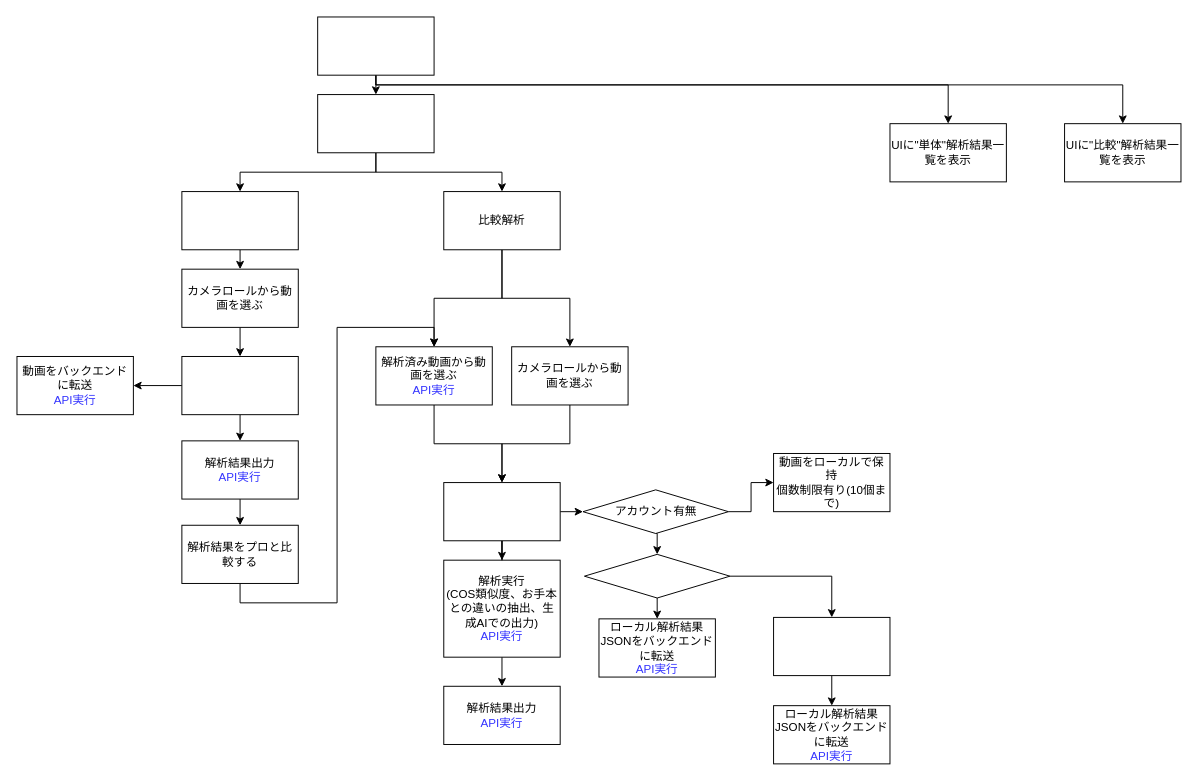
The diagram is 1198 pixels wide and 781 high, and some of its shapes have lost their labels. The shapes that lost their labels are listed below. From the top down, each one's centre as x and y in pixels, then its label:
At point (375, 45): "HOME".
At point (375, 123): "動画を解析する".
At point (239, 220): "単体解析".
At point (239, 385): "解析実行 API実行".
At point (501, 511): "ローカル解析実行 (スタート位置合わせ等)".
At point (656, 575): "単体解析有無".
At point (831, 646): "生動画をバックエンドに転送 API実行".
